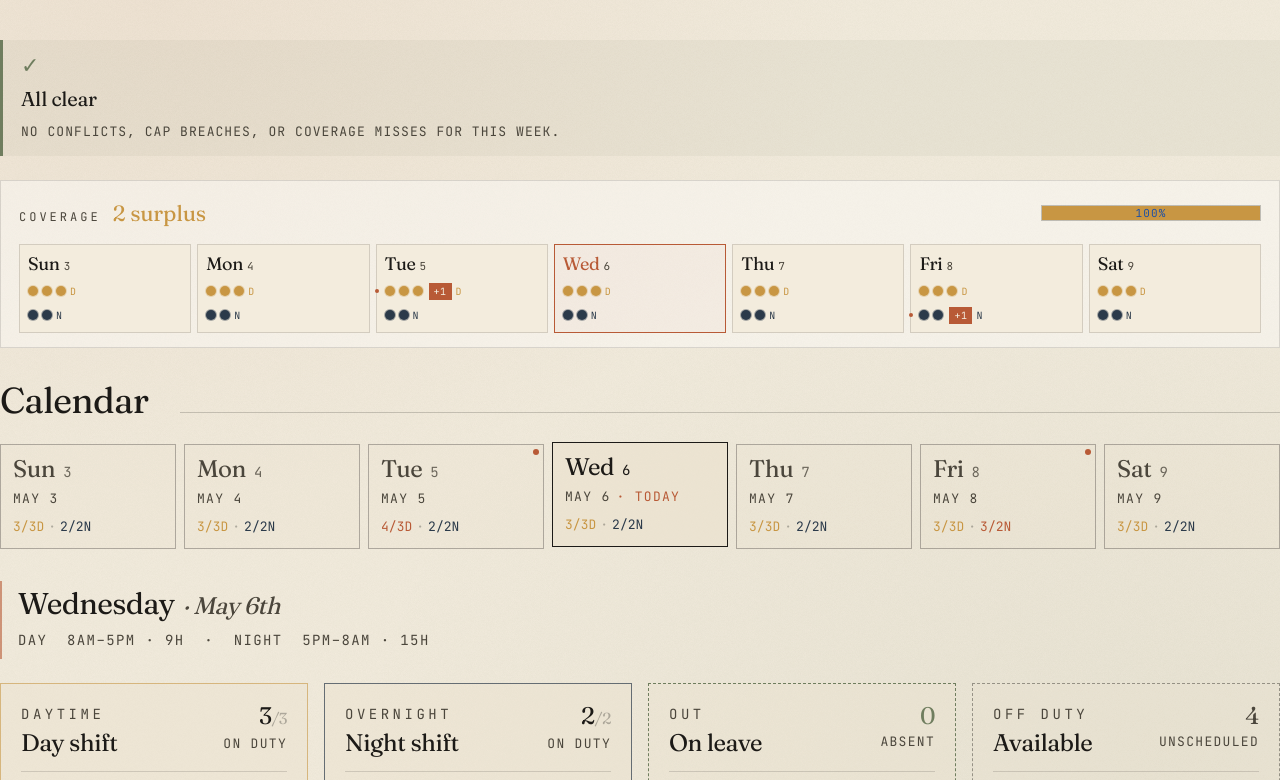
it: <CalendarPanel /> › displays staff already on leave for the selected day in the Out zone
Click the button "Tue 5 +1 D N": (462, 288) [376,244,548,333]
(page scrolled)
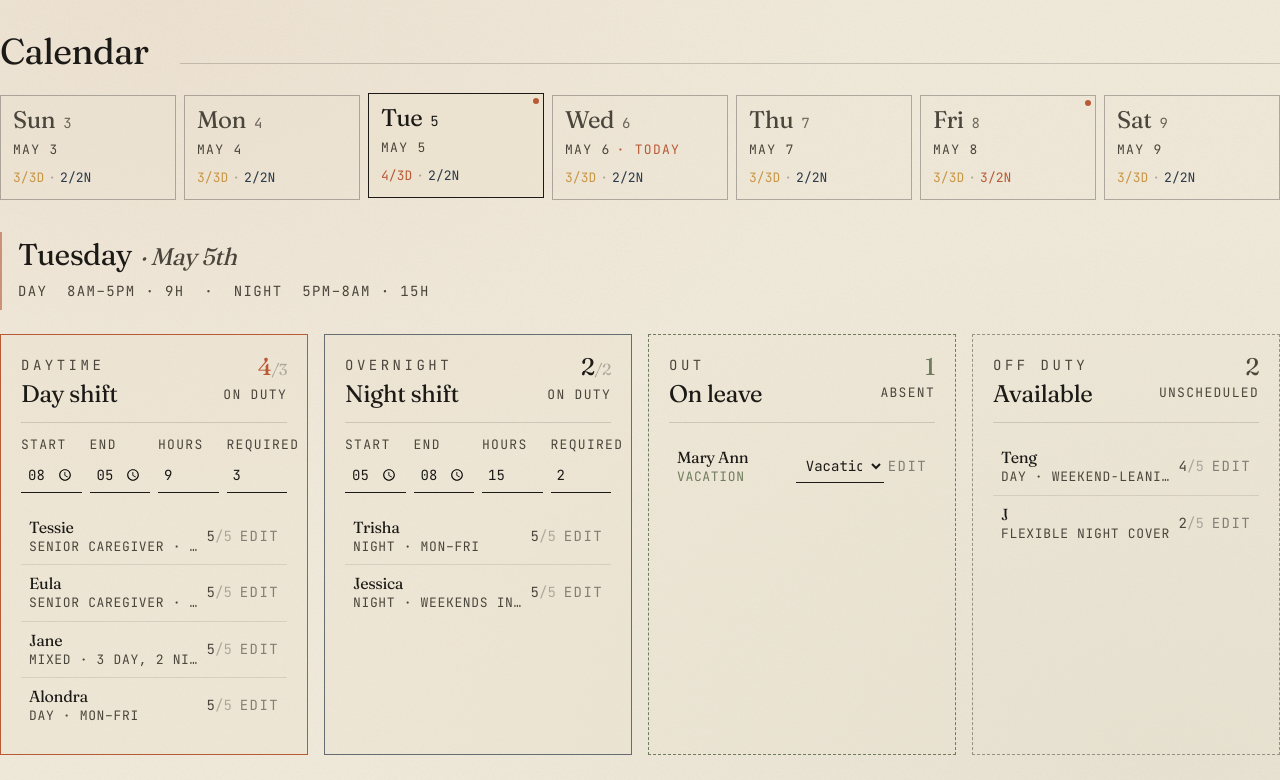
Check: the text "Mary Ann" is shown, box [677,447,748,467]
Check: the text "Vacation" is shown, box [677,467,748,486]
